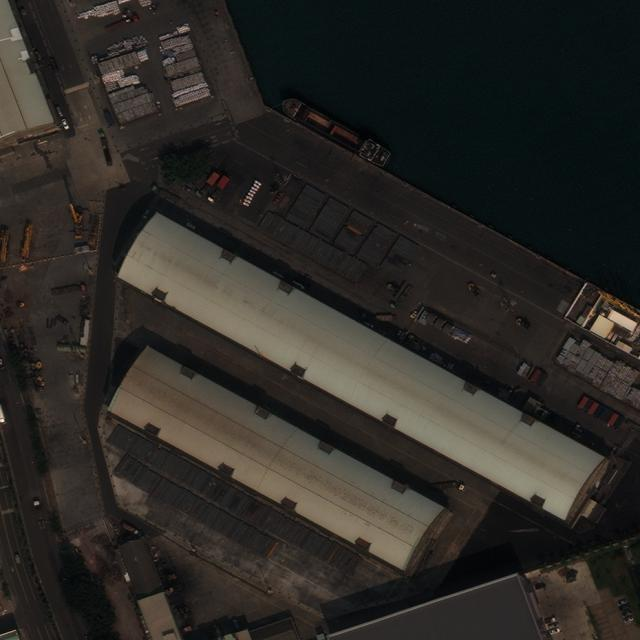Container Ship: (278, 94, 392, 170)
